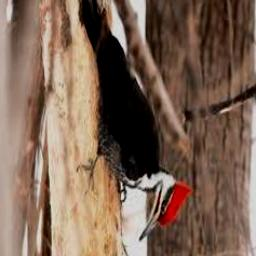Woodpecker: (79, 0, 192, 242)
